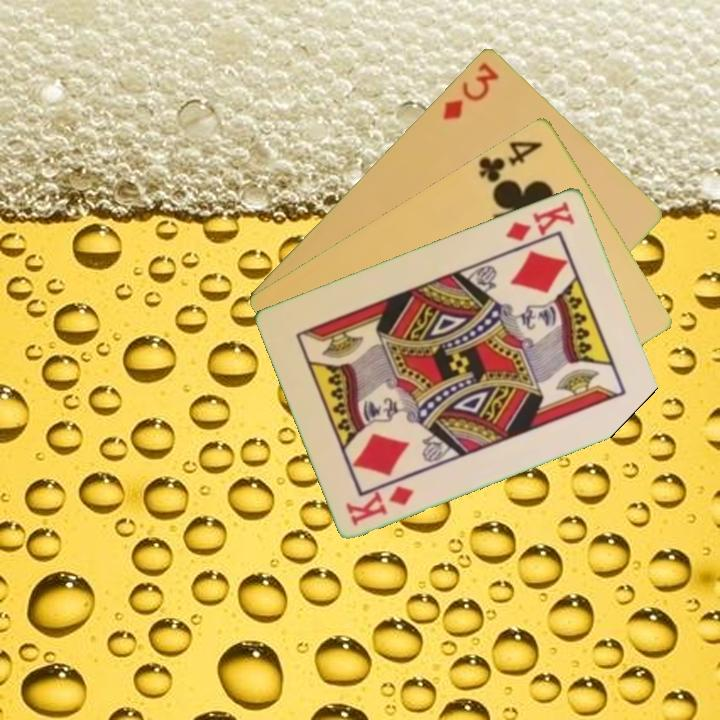3d: (439, 58, 502, 122)
4c: (475, 136, 546, 185)
Kd: (502, 196, 578, 244), (342, 481, 417, 529)
